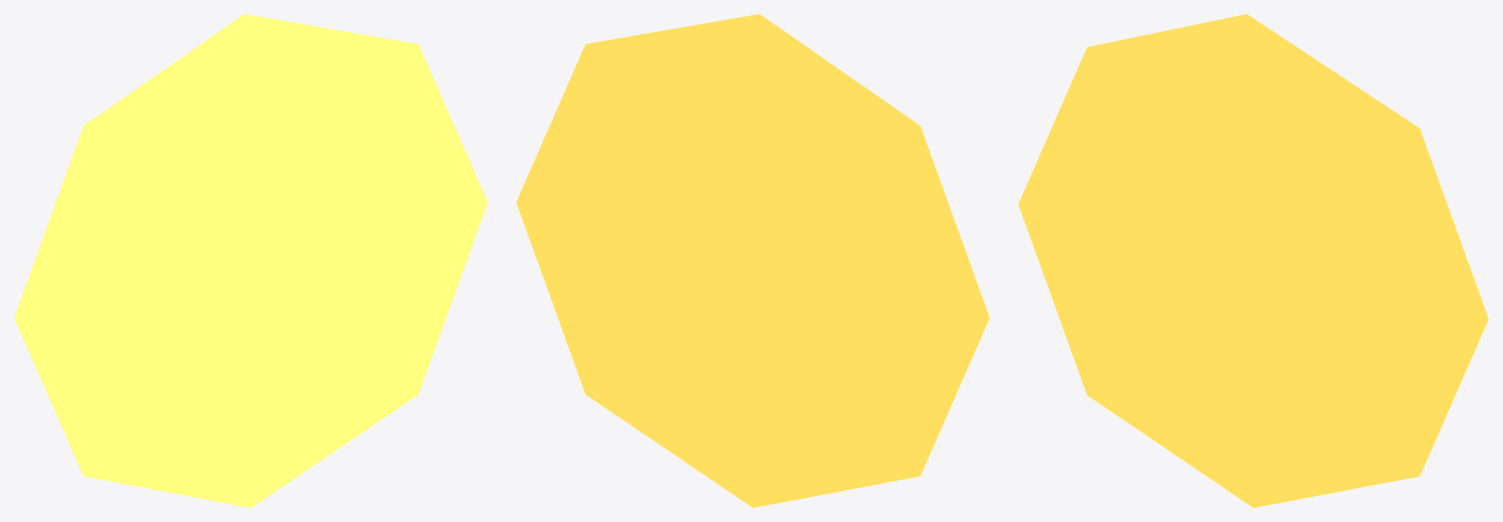
Rendered from floatingFireRockGlow.glb.
The picture shows the model from 3 angles, left to right: view 1: azimuth 30°, elevation 25°; view 2: azimuth 150°, elevation 25°; view 3: azimuth 330°, elevation 25°; orthographic projection.
Parts seen in each view (by area): view 1: floatingFireRockGlow; view 2: floatingFireRockGlow; view 3: floatingFireRockGlow.
Boxes of the visible parts, bbox=[...] form: floatingFireRockGlow: bbox=[14, 14, 487, 507]; floatingFireRockGlow: bbox=[516, 14, 989, 507]; floatingFireRockGlow: bbox=[1018, 14, 1488, 507].
Bounding box in the file's own units: 1.34 × 1.34 × 2.98e-07.
